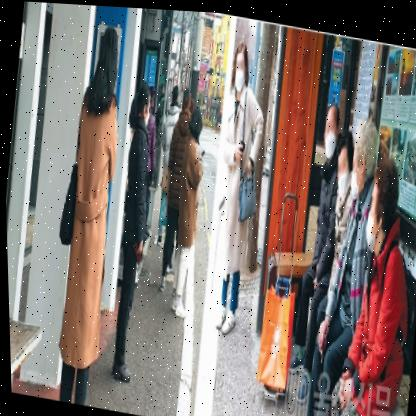person: (43, 8, 139, 410), (192, 30, 287, 346), (91, 59, 178, 388), (331, 151, 416, 416), (289, 78, 359, 351), (324, 105, 389, 365), (153, 79, 207, 301), (162, 104, 212, 337), (314, 135, 362, 312), (152, 82, 193, 244)
